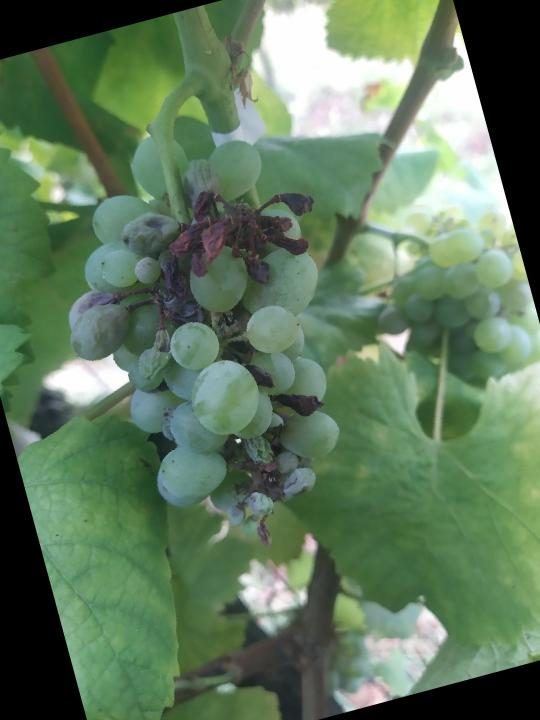grape: (20, 95, 397, 585)
